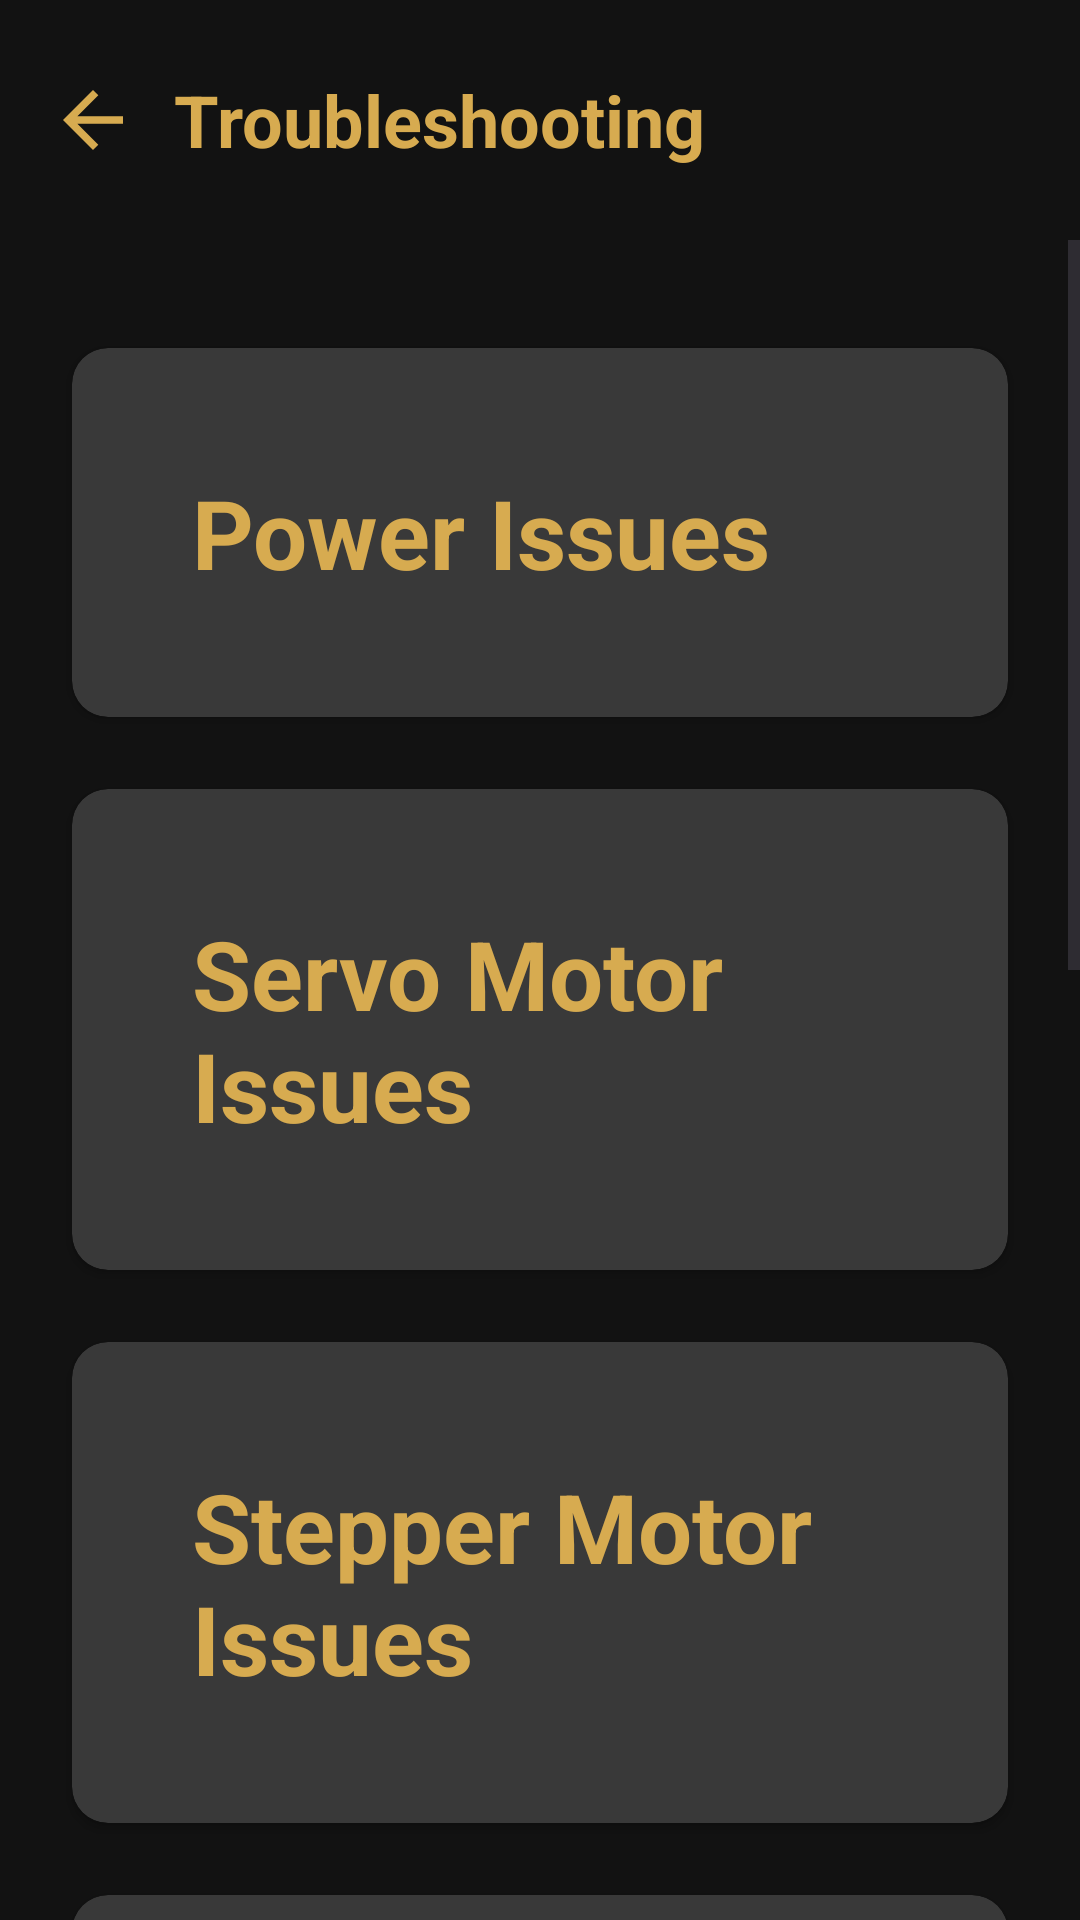

Where to tap for icons on this 1080x1920 app screen, as point (x, y):
arrow back: point (93, 120)
